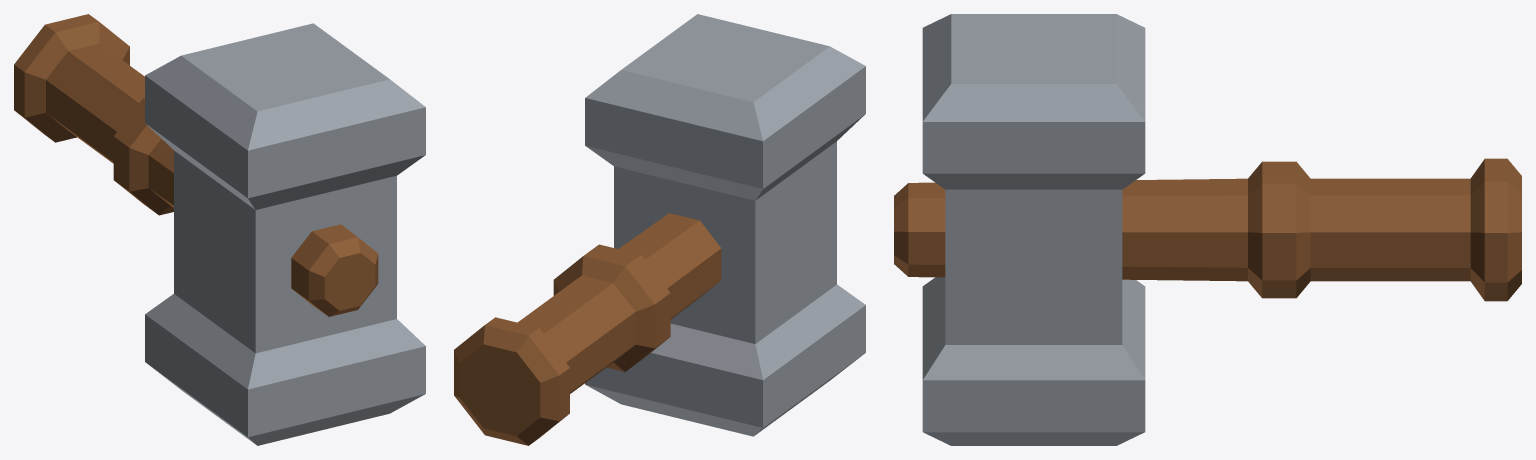
File: TOOL_Hammer.fbx
The picture shows the model from 3 angles, left to right: view 1: azimuth 30°, elevation 25°; view 2: azimuth 150°, elevation 25°; view 3: azimuth 270°, elevation 25°; orthographic projection. The views are drawn at different scales.
Visible parts, largest first — view 1: Head, Handle; view 2: Head, Handle; view 3: Head, Handle.
Boxes of the visible parts, bbox=[...] form: Head: bbox=[145, 23, 425, 445]; Handle: bbox=[14, 14, 378, 316]; Head: bbox=[585, 14, 865, 436]; Handle: bbox=[454, 213, 721, 445]; Head: bbox=[922, 14, 1145, 445]; Handle: bbox=[894, 158, 1521, 301].
Size of the model in its own units: 0.78 by 1.4 by 2.2.
